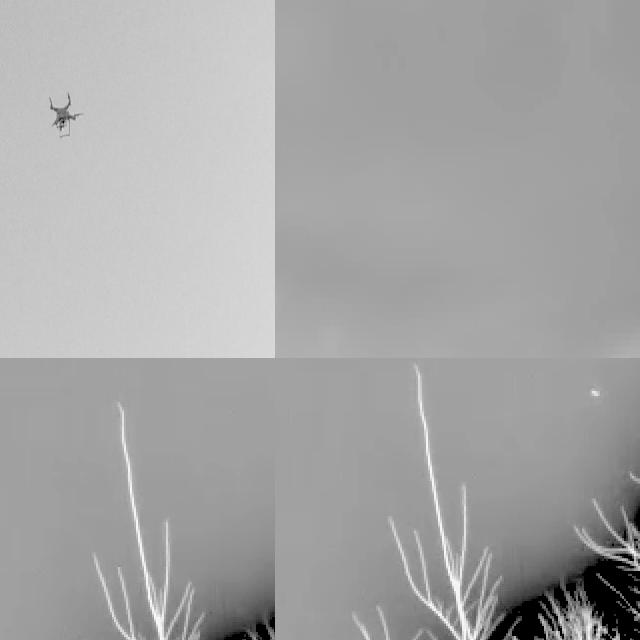0: (581, 381, 607, 413)
drone: (46, 89, 82, 136)
